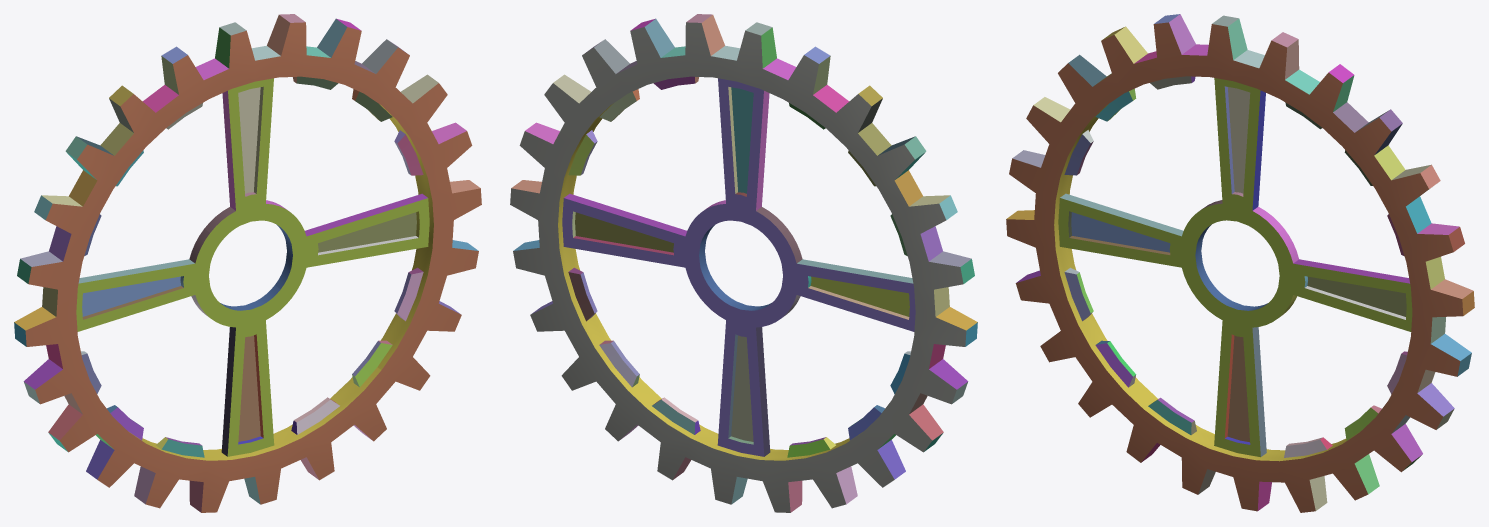
Rendered from module-timer-02.glb.
The picture shows the model from 3 angles, left to right: view 1: azimuth 30°, elevation 25°; view 2: azimuth 150°, elevation 25°; view 3: azimuth 330°, elevation 25°; orthographic projection.
Bounding box in the file's own units: 1.84 × 1.84 × 0.1.
